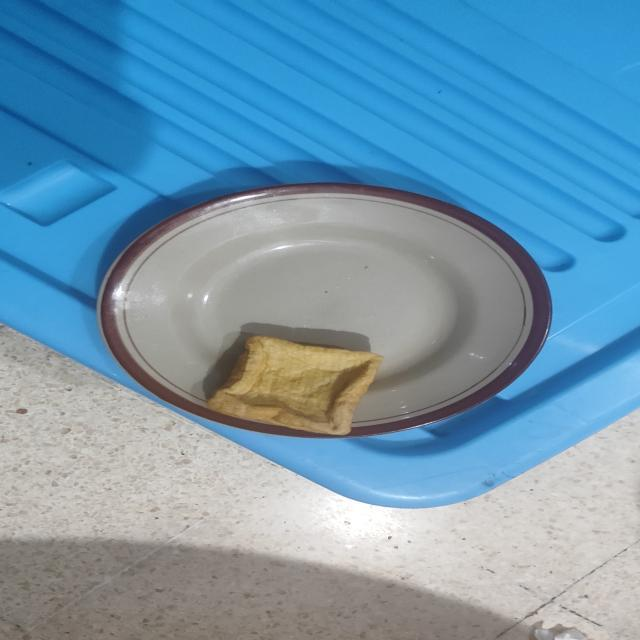tahu_goreng: (208, 336, 382, 436)
